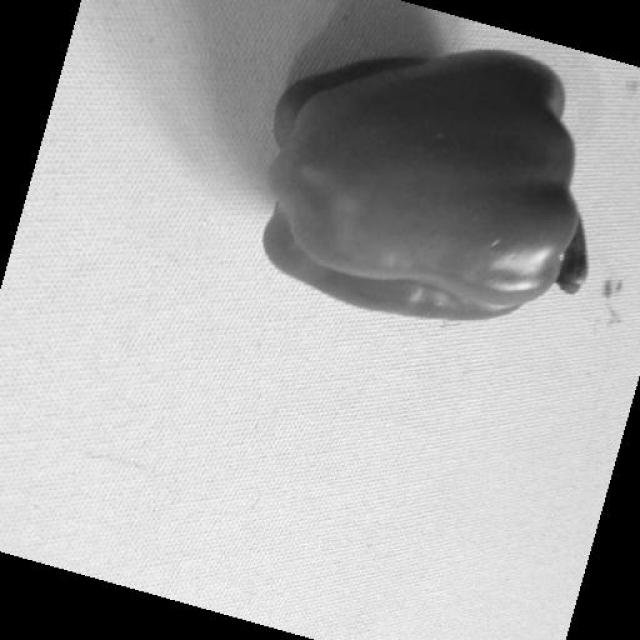Fresh_Capsicum: (269, 42, 577, 344)
